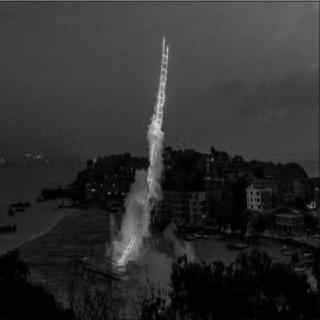Smoke: (146, 208, 150, 222)
